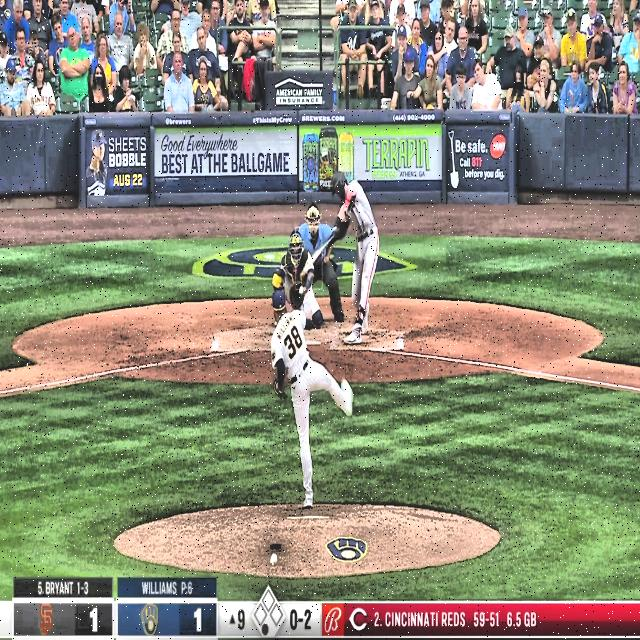baseball: (298, 286, 305, 296)
